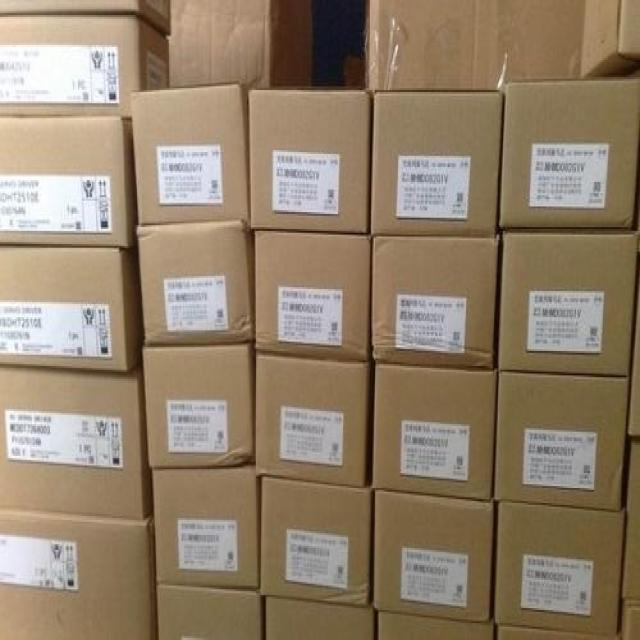box: (0, 366, 154, 520), (499, 81, 640, 229), (0, 509, 159, 640), (364, 0, 585, 94), (498, 227, 636, 375), (0, 242, 146, 375), (371, 94, 503, 238), (0, 114, 138, 250), (493, 372, 628, 509), (494, 501, 625, 634), (371, 235, 500, 370), (250, 90, 369, 235), (372, 364, 497, 501), (0, 15, 169, 116), (131, 84, 250, 223), (372, 490, 493, 621), (255, 351, 369, 484), (255, 231, 371, 360), (136, 221, 253, 345), (141, 342, 255, 469), (259, 479, 372, 606), (152, 462, 262, 589), (168, 0, 314, 90), (1, 0, 168, 36), (157, 586, 261, 640), (582, 0, 640, 81), (266, 597, 374, 640), (621, 443, 640, 602), (379, 614, 493, 640), (627, 287, 640, 435), (498, 629, 618, 640), (621, 602, 640, 640)
